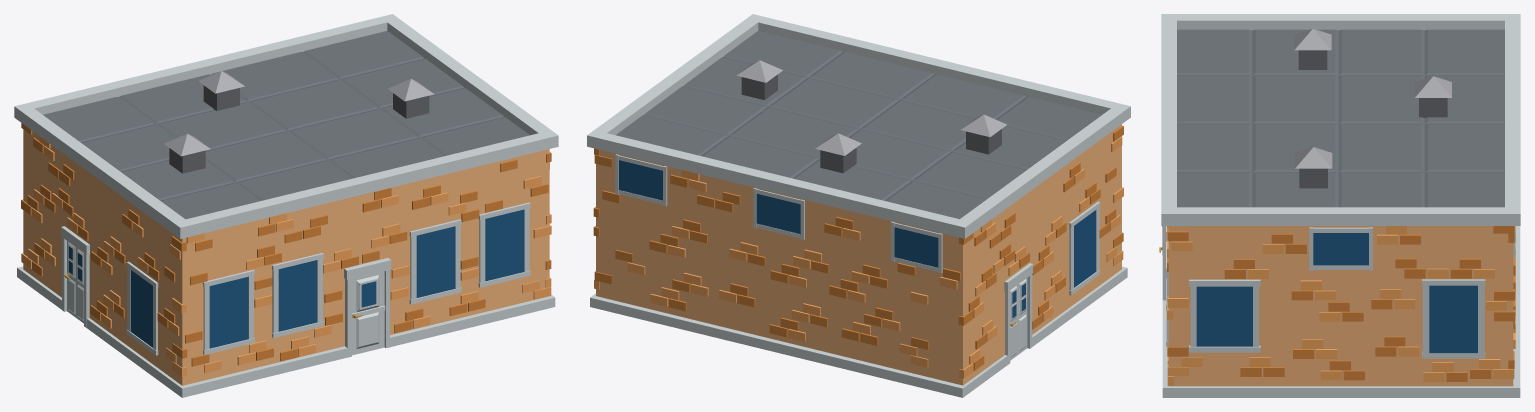
The model's file is SM_House_20_A.FBX.
3 views of the same model, side by side, from view 1: azimuth 30°, elevation 25°; view 2: azimuth 150°, elevation 25°; view 3: azimuth 270°, elevation 25° (orthographic). The views are drawn at different scales.
Parts seen in each view (by area): view 1: SM_House_20_A; view 2: SM_House_20_A; view 3: SM_House_20_A.
Boxes of the visible parts, box(x1,y1,x2,y2) form: SM_House_20_A: box(14, 14, 558, 397); SM_House_20_A: box(587, 14, 1130, 397); SM_House_20_A: box(1159, 14, 1520, 397).
Size of what is drawn, in the model's own units: 1153 by 881 by 569.
